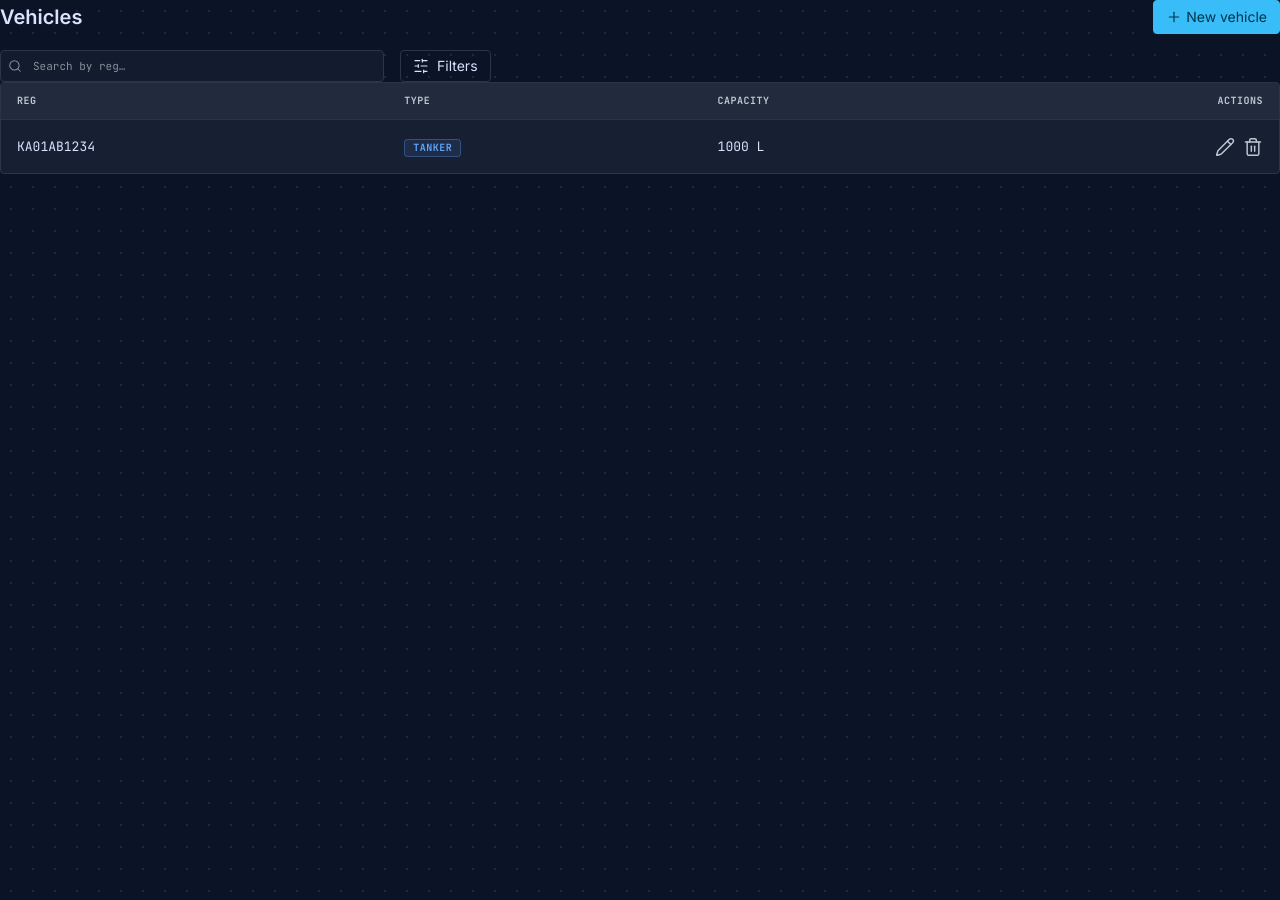
Test: Vehicles page › requires a registration and a valid capacity before submitting
Expected: the text "KA01AB1234" is shown, [17,138,95,155]
Click the button "New vehicle".
click(1217, 17)  # box [1153,0,1279,34]
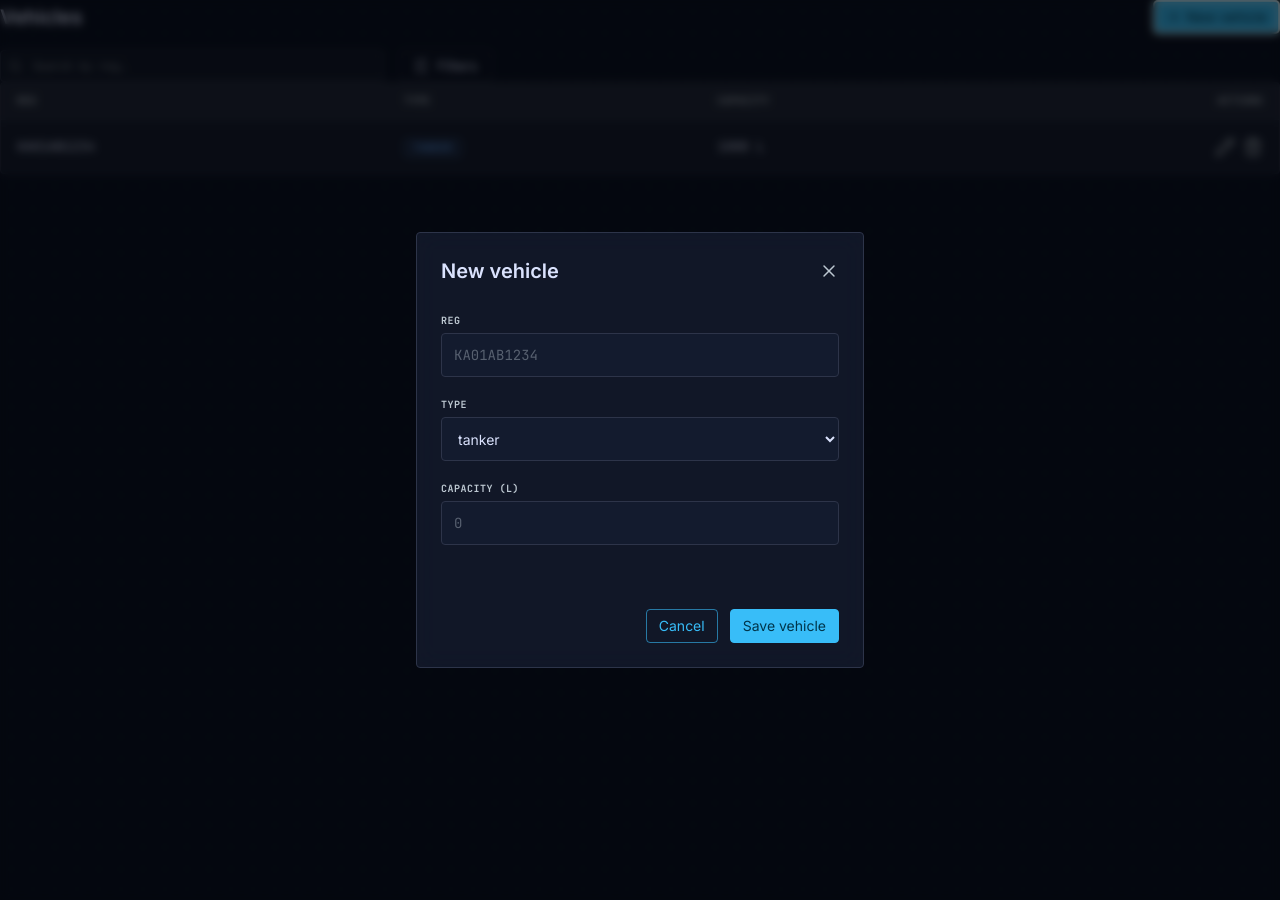
Note: Submit blank: reg empty and capacity empty both fail validation.
Click the button "Save vehicle".
click(784, 626)  # box [730,609,839,643]
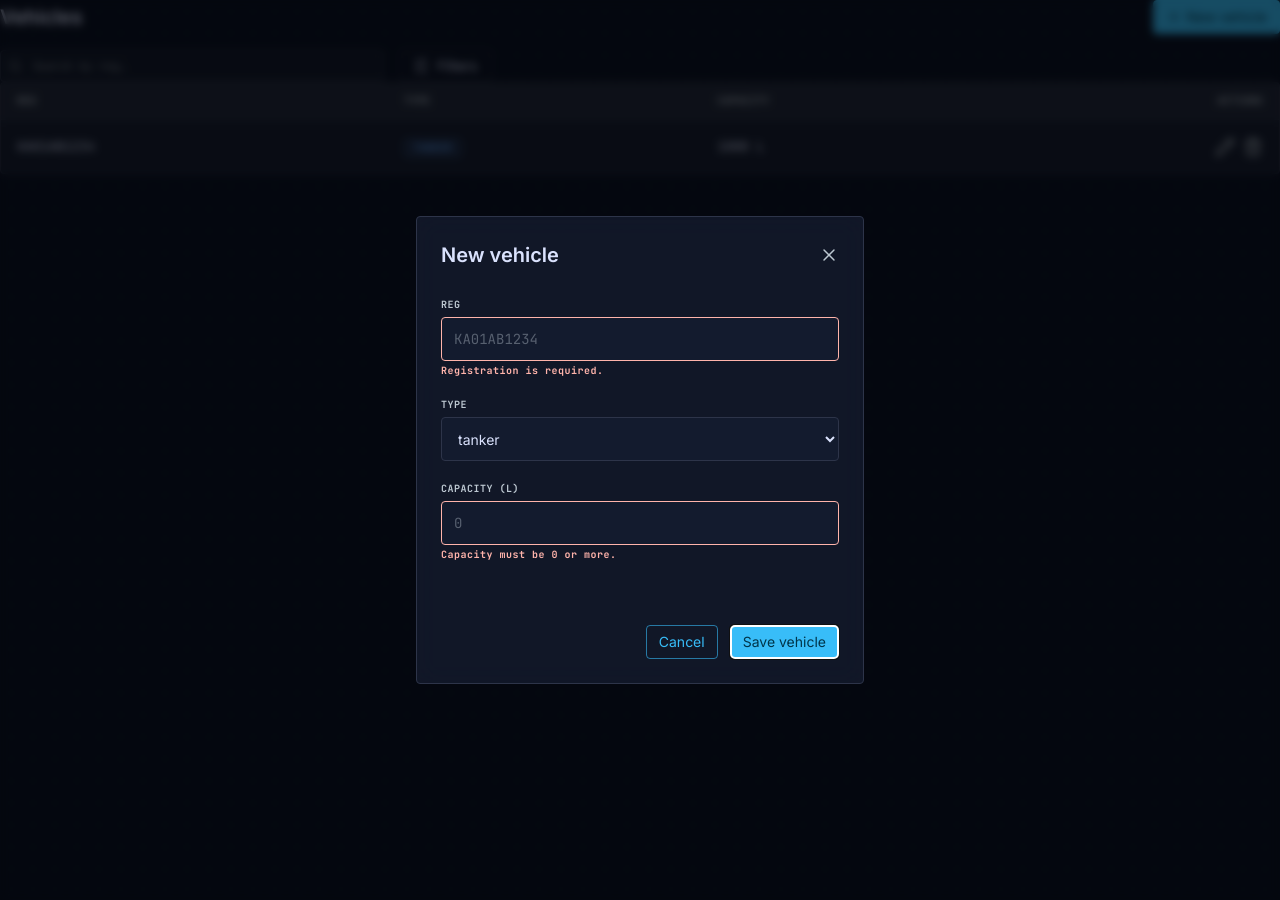
Result: the text "Registration is required." is shown at [441,364,604,377]
Result: the text "Capacity must be 0 or more." is shown at [441,548,616,561]
